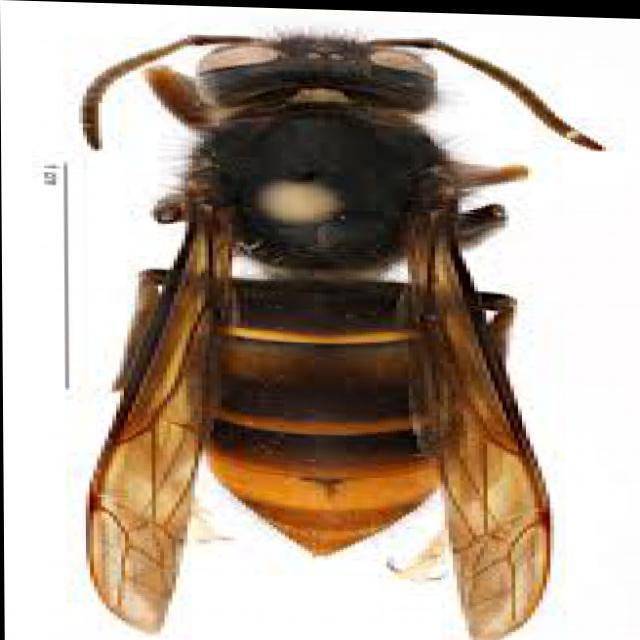Vespa Velutina: (54, 16, 617, 639)
